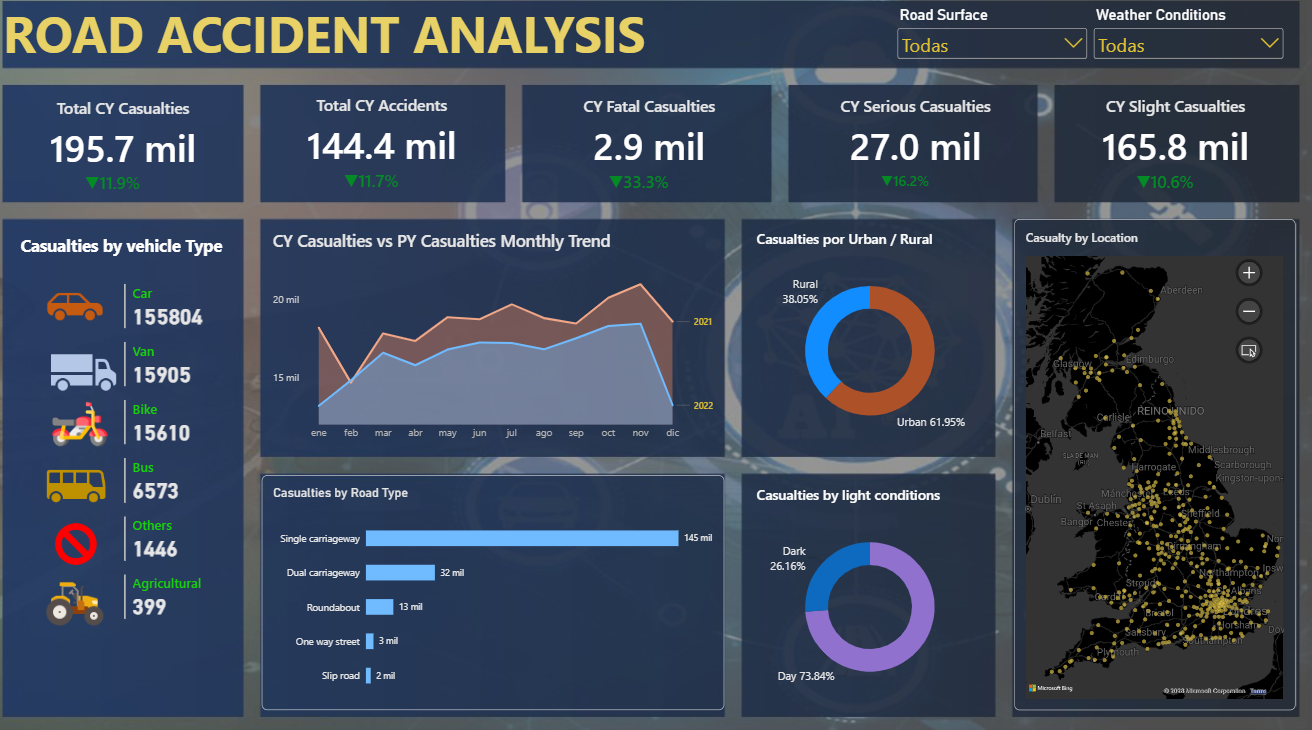

Layout of this report page (visuals, bound fields, positions):
{"tool":"powerbi","page":{"name":"Página 1","canvas":[1920,1080],"ordinal":0},"visuals":[{"type":"card","title":"Total CY Casualties","fields":{"Values":["Measures (2).CY casualties"]},"box":[21.7,141.2,347.5,126.7],"z":0},{"type":"card","fields":{"Values":["Measures (2).YoY Casualties"]},"box":[110.4,255.2,139.3,54.3],"z":1000},{"type":"card","title":"Total CY Accidents","fields":{"Values":["Measures (2).CY Accidents Counts"]},"box":[396.5,138.1,347.5,126.7],"z":2000},{"type":"card","fields":{"Values":["Measures (2).YoY Accidents"]},"box":[485.2,252.1,139.3,54.3],"z":3000},{"type":"card","title":"CY Fatal Casualties","fields":{"Values":["Measures (2).CY casualties"]},"box":[783.1,139.6,347.5,126.7],"z":4000},{"type":"card","fields":{"Values":["Measures (2).YoY Casualties"]},"box":[871.8,253.6,139.3,54.3],"z":5000},{"type":"card","title":"CY Serious Casualties","fields":{"Values":["Measures (2).CY casualties"]},"box":[1168.5,139.7,347.5,126.7],"z":6000},{"type":"card","fields":{"Values":["Measures (2).YoY Casualties"]},"box":[1257.2,253.7,139.3,54.3],"z":7000},{"type":"card","title":"CY Slight Casualties","fields":{"Values":["Measures (2).CY casualties"]},"box":[1545.7,139.8,347.5,126.7],"z":8000},{"type":"card","fields":{"Values":["Measures (2).YoY Casualties"]},"box":[1634.4,253.8,139.3,54.3],"z":9000},{"type":"textbox","box":[21.7,14.5,937.4,99.5],"z":10000},{"type":"multiRowCard","fields":{"Values":["Data.Vehicle_Type (grupos)","Measures (2).CY casualties"]},"box":[181,412.6,204.5,557.4],"z":11000},{"type":"image","box":[70.6,845.1,110.4,88.7],"z":12000},{"type":"image","box":[85.1,589.9,95.9,79.6],"z":13000},{"type":"image","box":[65.1,673.2,124.9,92.3],"z":14000},{"type":"image","box":[61.5,416.2,128.5,86.9],"z":15000},{"type":"image","box":[72.4,765.5,110.4,76],"z":16000},{"type":"image","box":[72.4,503.1,132.1,103.2],"z":17000},{"type":"textbox","box":[47.1,354.7,309.5,45.2],"z":18000},{"type":"areaChart","title":"CY Casualties vs PY Casualties Monthly Trend","fields":{"Category":["Calendar.Month"],"Y":["Sum(Data.Number_of_Casualties)"],"Series":["Calendar.Date.Variación.Jerarquía de fechas.Año"]},"box":[396.3,333,669.6,340.2],"z":19000},{"type":"donutChart","title":"Casualties por Urban / Rural","fields":{"Category":["Data.Urban_or_Rural_Area"],"Y":["Measures (2).CY casualties"]},"box":[1096.7,333,360.1,340.2],"z":20000},{"type":"donutChart","title":"Casualties by light conditions","fields":{"Y":["Measures (2).CY casualties"],"Category":["Data.Light_Conditions (grupos) 2"]},"box":[1096.7,704,360.1,340.2],"z":21000},{"type":"barChart","title":"Casualties by Road Type","fields":{"Category":["Data.Road_Type"],"Y":["Measures (2).CY casualties"]},"box":[396.3,704,669.6,340.2],"z":22000},{"type":"map","title":"Casualty by Location","fields":{"Y":["Data.Latitude"],"X":["Data.Longitude"],"Category":["Data.Local_Authority_(District)"]},"box":[1485.7,333,407.2,711.2],"z":23000},{"type":"slicer","fields":{"Values":["Data.Weather_Conditions (grupos)"]},"box":[1596.1,25.3,284.1,81.4],"z":24000},{"type":"slicer","fields":{"Values":["Data.Road_Surface_Conditions (grupos)"]},"box":[1312,25.3,284.1,81.4],"z":25000}]}

Visuals, with their boxes in screenshot pixels (x1, y1, x2, y2), scaled from the page's 1920x1080 canvas onto the 1312x730 screenshot:
"Total CY Casualties" card: (left=15, top=95, right=252, bottom=181)
card - Measures (2).YoY Casualties: (left=75, top=172, right=171, bottom=209)
"Total CY Accidents" card: (left=271, top=93, right=508, bottom=179)
card - Measures (2).YoY Accidents: (left=332, top=170, right=427, bottom=207)
"CY Fatal Casualties" card: (left=535, top=94, right=773, bottom=180)
card - Measures (2).YoY Casualties: (left=596, top=171, right=691, bottom=208)
"CY Serious Casualties" card: (left=798, top=94, right=1036, bottom=180)
card - Measures (2).YoY Casualties: (left=859, top=171, right=954, bottom=208)
"CY Slight Casualties" card: (left=1056, top=94, right=1294, bottom=180)
card - Measures (2).YoY Casualties: (left=1117, top=172, right=1212, bottom=208)
textbox: (left=15, top=10, right=655, bottom=77)
multiRowCard - Data.Vehicle_Type (grupos) x Measures (2).CY casualties: (left=124, top=279, right=263, bottom=656)
image: (left=48, top=571, right=124, bottom=631)
image: (left=58, top=399, right=124, bottom=453)
image: (left=44, top=455, right=130, bottom=517)
image: (left=42, top=281, right=130, bottom=340)
image: (left=49, top=517, right=125, bottom=569)
image: (left=49, top=340, right=140, bottom=410)
textbox: (left=32, top=240, right=244, bottom=270)
"CY Casualties vs PY Casualties Monthly Trend" areaChart: (left=271, top=225, right=728, bottom=455)
"Casualties por Urban / Rural" donutChart: (left=749, top=225, right=995, bottom=455)
"Casualties by light conditions" donutChart: (left=749, top=476, right=995, bottom=706)
"Casualties by Road Type" barChart: (left=271, top=476, right=728, bottom=706)
"Casualty by Location" map: (left=1015, top=225, right=1293, bottom=706)
slicer - Data.Weather_Conditions (grupos): (left=1091, top=17, right=1285, bottom=72)
slicer - Data.Road_Surface_Conditions (grupos): (left=897, top=17, right=1091, bottom=72)
